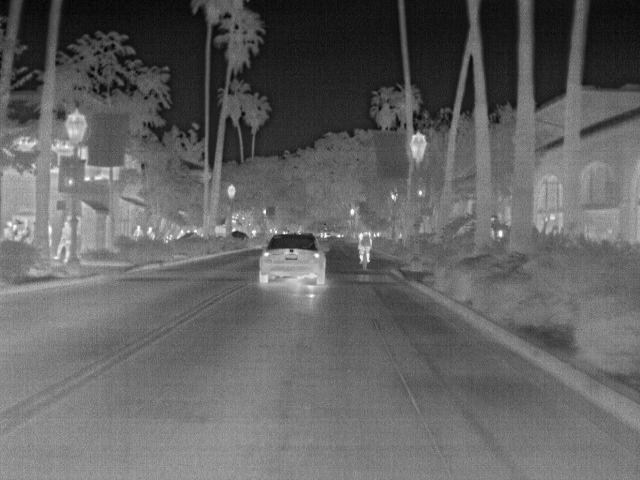car: (256, 230, 326, 287)
person: (51, 220, 71, 262), (355, 226, 374, 263), (132, 222, 147, 238), (143, 226, 157, 240)
